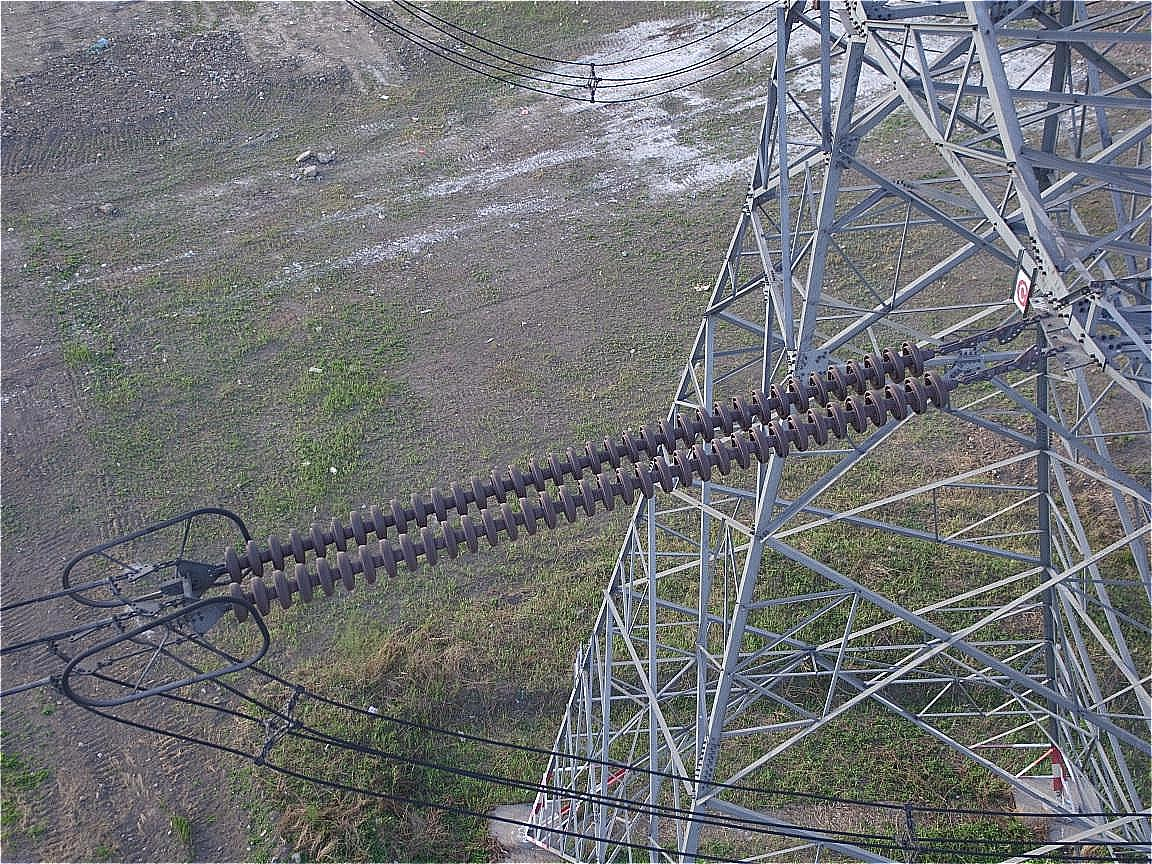insultor1: (216, 332, 960, 621)
